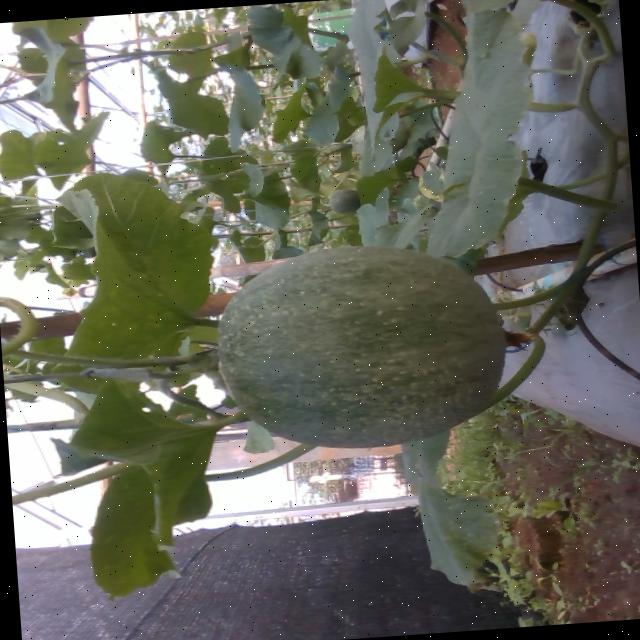melon: (219, 244, 504, 445)
